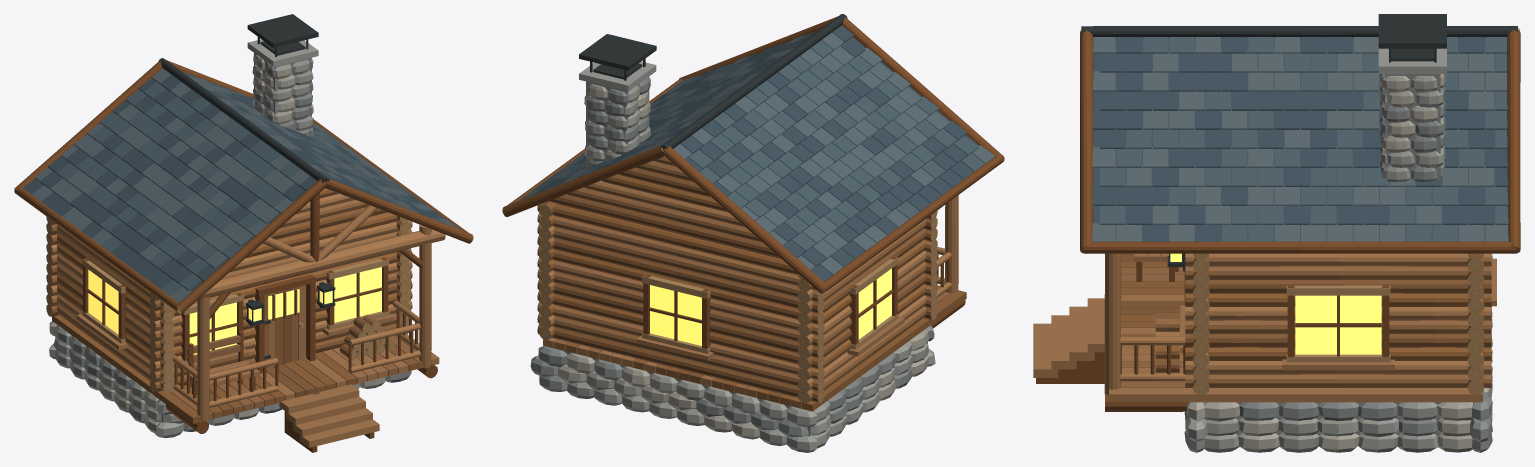
File: lakeside-cabin.glb
3 views of the same model, side by side, from view 1: azimuth 30°, elevation 25°; view 2: azimuth 150°, elevation 25°; view 3: azimuth 270°, elevation 25° (orthographic). The views are drawn at different scales.
Visible parts, largest first — view 1: Cedar_2, Heartwood_trim, Slate_1, Slate_2, Slate_0, Cedar_3, Cedar_1, Cedar_0, End_grain, Cabin_Glass, Granite_1, Iron_and_charcoal (+2 smaller); view 2: Slate_0, Slate_1, Slate_2, Cedar_2, Cedar_1, Cedar_0, Cedar_3, Heartwood_trim, Granite_1, Granite_0, End_grain, Granite_2 (+2 smaller); view 3: Slate_0, Cedar_2, Slate_2, Slate_1, Heartwood_trim, Cedar_1, Granite_1, Granite_0, Cedar_3, Iron_and_charcoal, Cedar_0, Granite_2 (+2 smaller).
Part boxes in pixels (x1,y1,x2,y2): Cedar_2: [51, 193, 445, 447]; Heartwood_trim: [14, 60, 473, 452]; Slate_1: [57, 72, 446, 296]; Slate_2: [32, 68, 459, 302]; Slate_0: [23, 75, 445, 291]; Cedar_3: [51, 188, 418, 423]; Cedar_1: [51, 200, 422, 419]; Cedar_0: [51, 207, 412, 416]; End_grain: [14, 181, 473, 392]; Cabin_Glass: [88, 267, 381, 354]; Granite_1: [49, 39, 318, 438]; Iron_and_charcoal: [158, 14, 335, 359]; Slate_0: [531, 25, 978, 281]; Slate_1: [532, 40, 984, 251]; Slate_2: [517, 32, 994, 274]; Cedar_2: [537, 156, 958, 389]; Cedar_1: [537, 161, 950, 408]; Cedar_0: [537, 167, 932, 403]; Cedar_3: [537, 174, 966, 411]; Heartwood_trim: [502, 16, 1004, 401]; Granite_1: [567, 61, 935, 452]; Granite_0: [530, 77, 934, 437]; End_grain: [502, 147, 1002, 403]; Granite_2: [558, 84, 929, 439]; Slate_0: [1092, 37, 1507, 241]; Cedar_2: [1033, 253, 1496, 402]; Slate_2: [1092, 37, 1508, 241]; Slate_1: [1100, 37, 1508, 241]; Heartwood_trim: [1036, 29, 1520, 411]; Cedar_1: [1120, 258, 1491, 387]; Granite_1: [1185, 48, 1492, 452]; Granite_0: [1184, 74, 1492, 452]; Cedar_3: [1121, 253, 1491, 360]; Iron_and_charcoal: [1081, 14, 1517, 271]; Cedar_0: [1121, 254, 1491, 386]; Granite_2: [1185, 74, 1492, 452].
Size of the model in its own units: 7.77 by 7.48 by 8.34.
